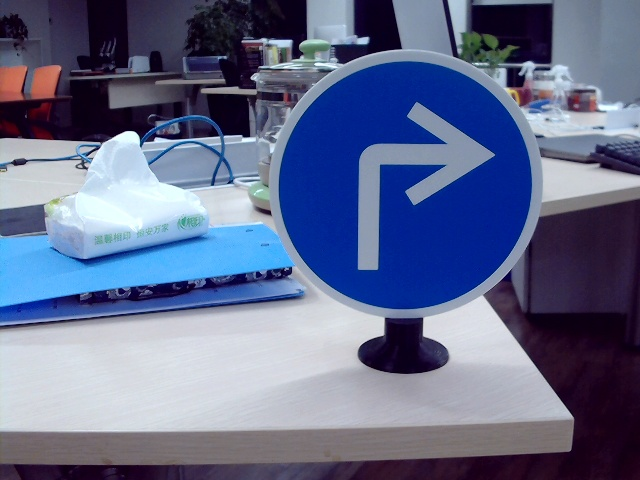turn_right: (345, 92, 489, 269)
